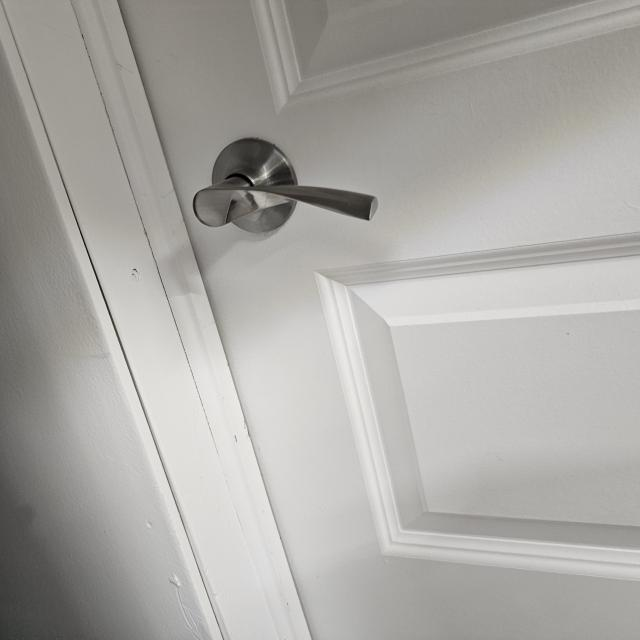door-handle: (192, 138, 378, 232)
